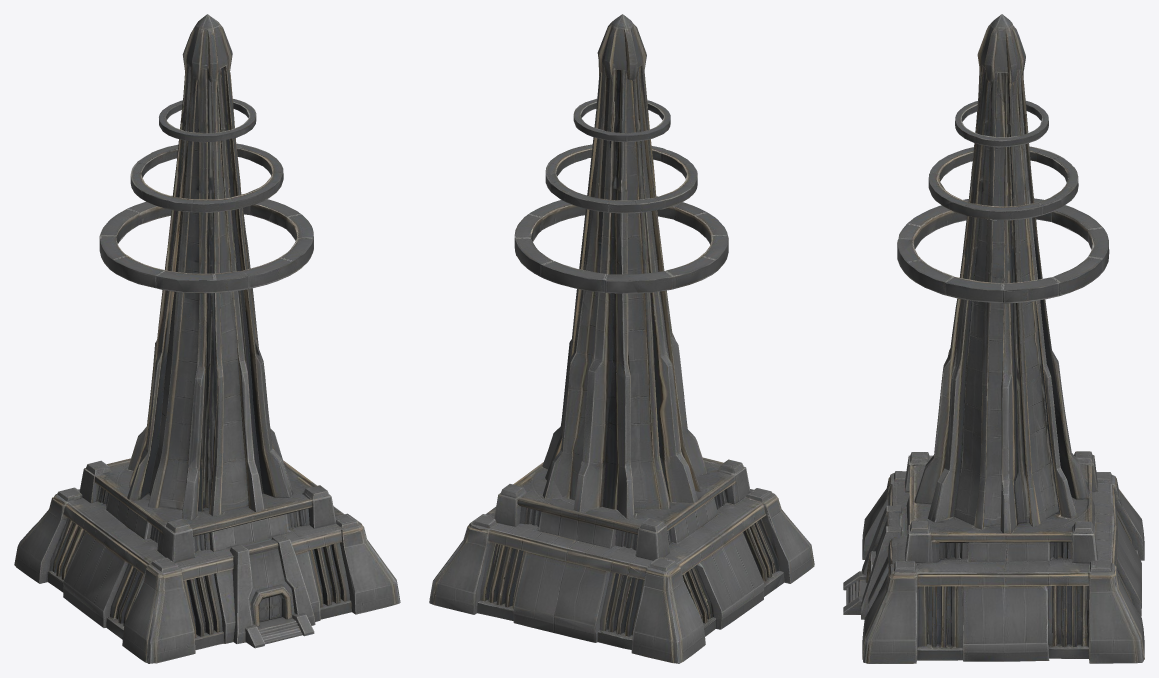
Rendered from imperial_psionic_spire_lod1.glb.
The picture shows the model from 3 angles, left to right: view 1: azimuth 30°, elevation 25°; view 2: azimuth 150°, elevation 25°; view 3: azimuth 270°, elevation 25°; orthographic projection. The views are drawn at different scales.
Parts seen in each view (by area): view 1: mesh_node; view 2: mesh_node; view 3: mesh_node.
Part boxes in pixels (left/top/right/bottom): mesh_node: left=14, top=14, right=400, bottom=663; mesh_node: left=429, top=14, right=814, bottom=663; mesh_node: left=843, top=14, right=1144, bottom=663.
Bounding box in the file's own units: 29.84 × 64 × 29.85.
Materials: 1 (1 with a texture image).
